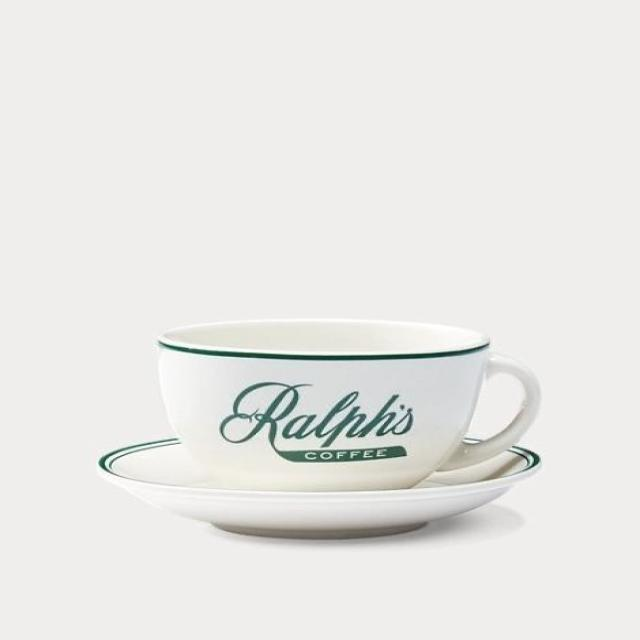glass cup: (155, 317, 542, 492)
